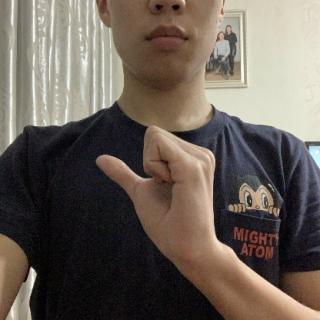WAW: (94, 121, 239, 270)
